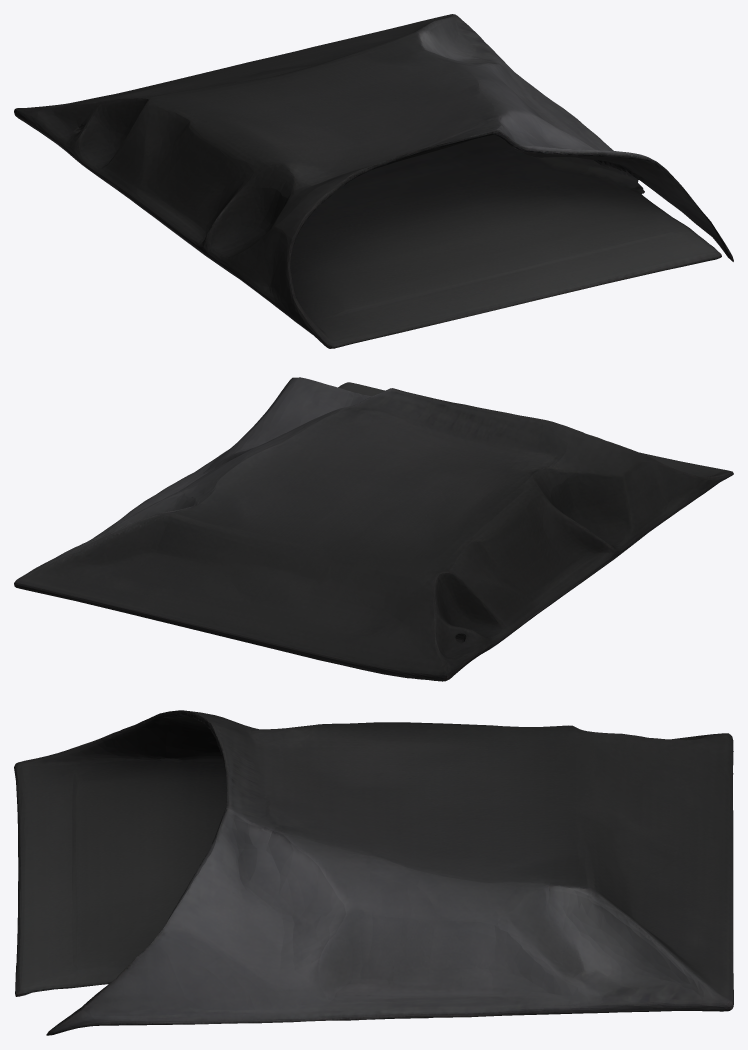
The model's file is g51-nova-mailer.glb.
The picture shows the model from 3 angles, top to bottom: view 1: azimuth 30°, elevation 25°; view 2: azimuth 150°, elevation 25°; view 3: azimuth 270°, elevation 25°; orthographic projection. The views are drawn at different scales.
Visible parts, largest first — view 1: geometry_0; view 2: geometry_0; view 3: geometry_0.
Boxes of the visible parts, <box> form: geometry_0: <box>14,14,733,348</box>; geometry_0: <box>14,377,733,681</box>; geometry_0: <box>14,710,733,1035</box>.
Bounding box in the file's own units: 0.8368 × 0.2083 × 0.9979.
1 material, 1 textured.
